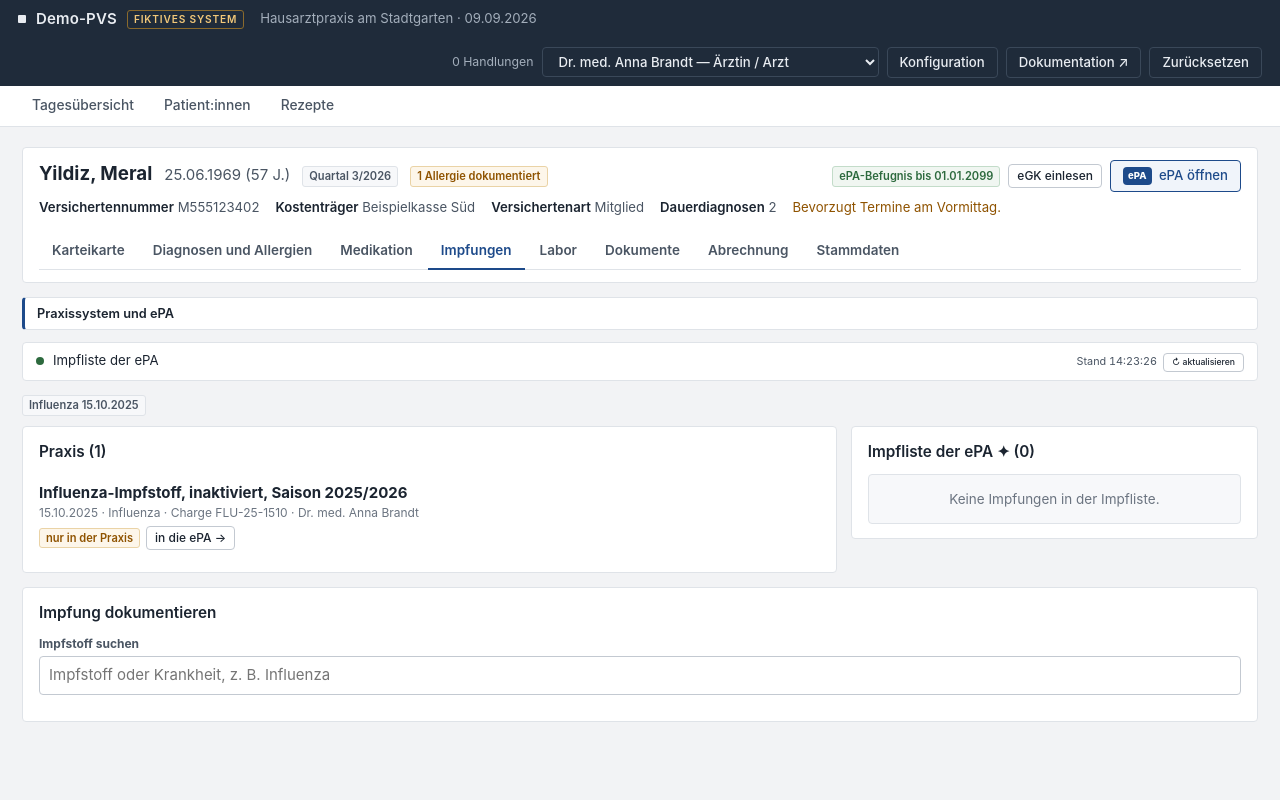
Impfungen › stellt eine Impfung der Praxis mit Lesenachweis in die Impfliste und verknüpft sie
Click the button "in die ePA →" at (191, 538), box top-left (146, 526), bottom-right (235, 550)
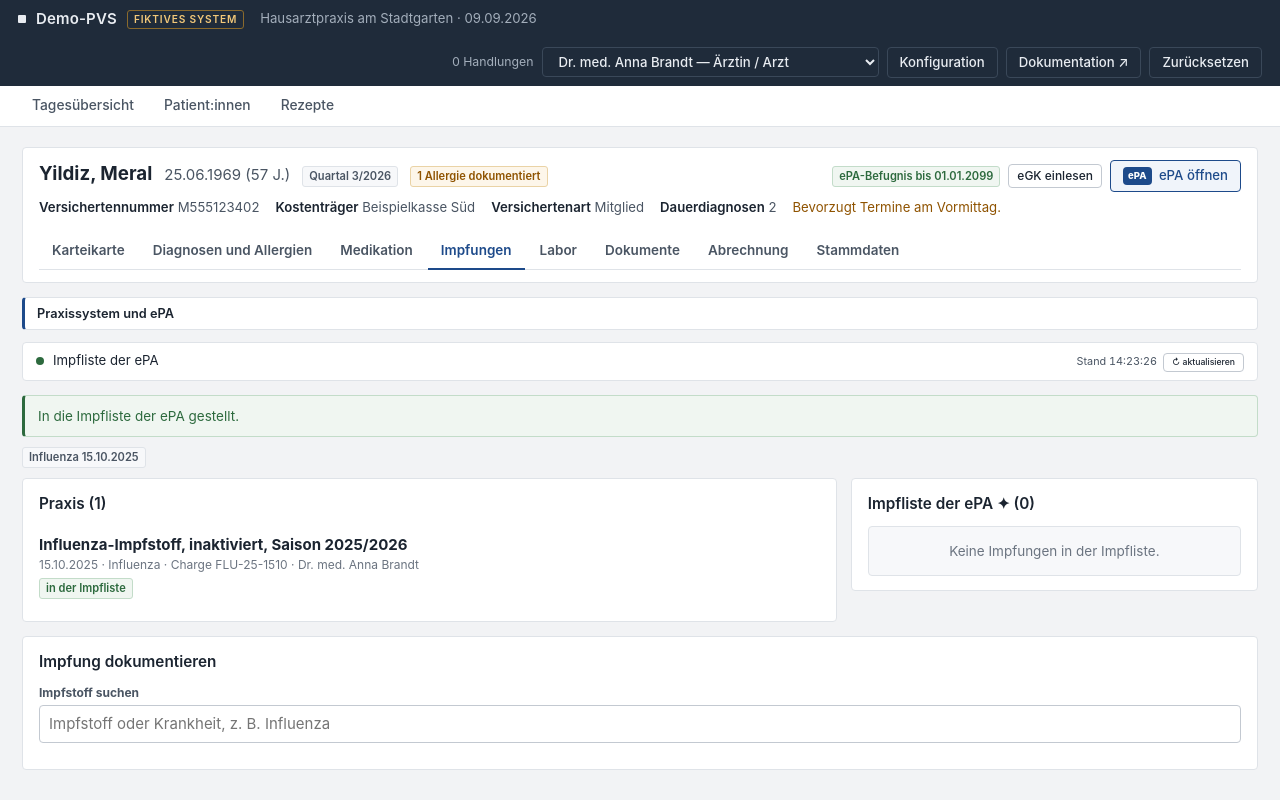
Expected: the text "In die Impfliste der ePA gestellt." is shown, top-left (22, 395), bottom-right (1258, 437)
